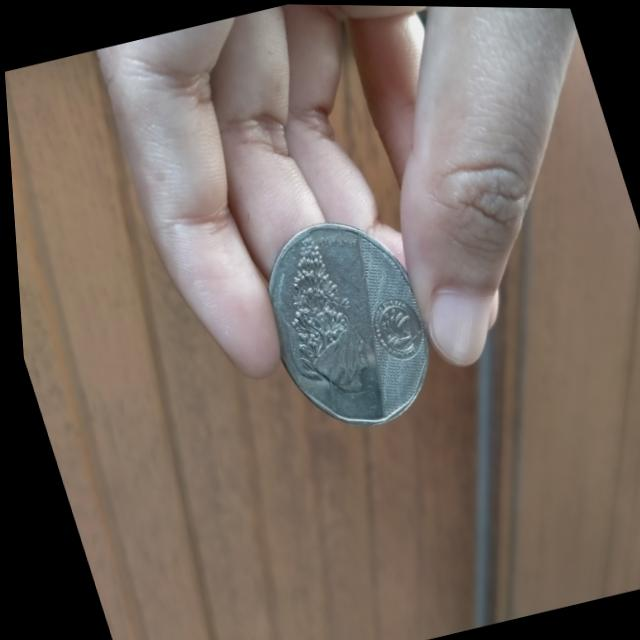10_New_Back: (242, 218, 386, 429)
